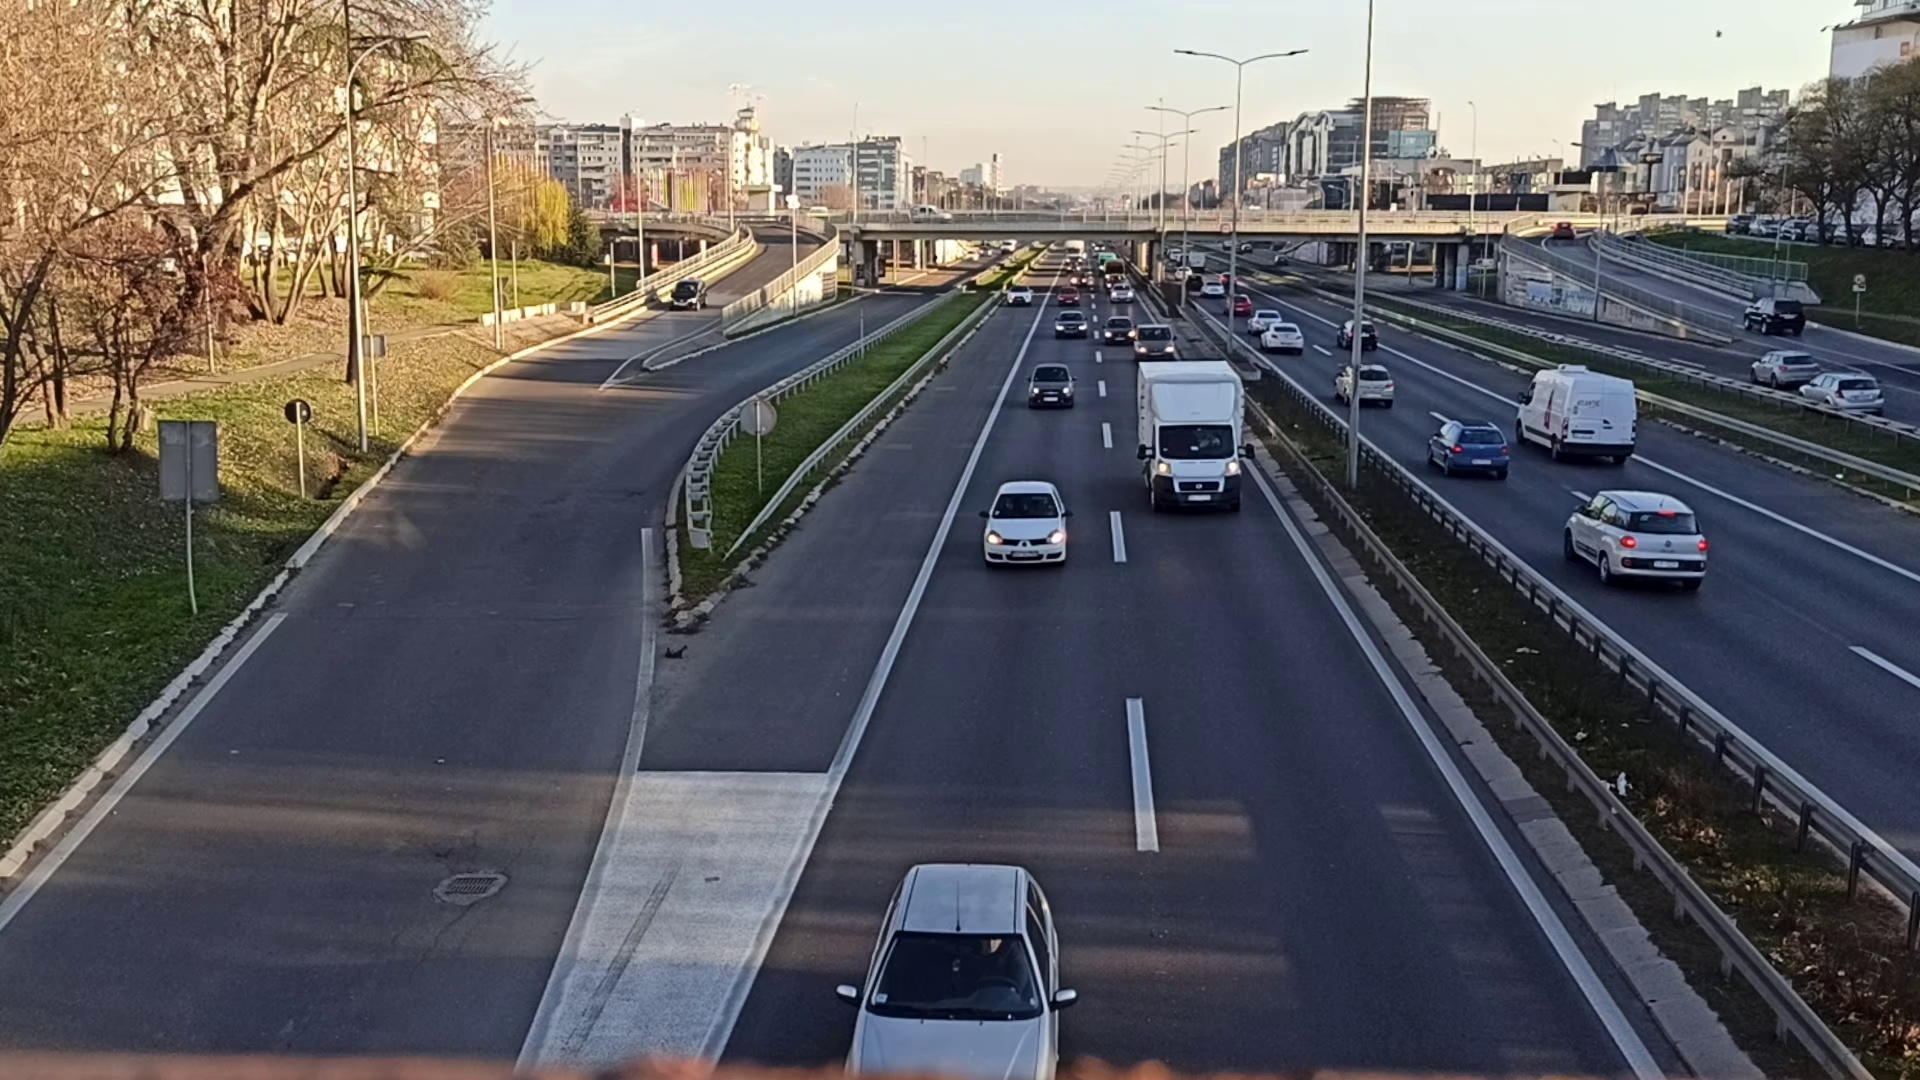car: (1560, 488, 1710, 593), (984, 477, 1069, 568), (1431, 419, 1507, 477), (1030, 364, 1073, 409), (1134, 324, 1174, 359), (670, 277, 707, 307), (1054, 313, 1087, 338), (1105, 318, 1131, 340)
van: (1137, 356, 1245, 513), (1515, 364, 1640, 469)
